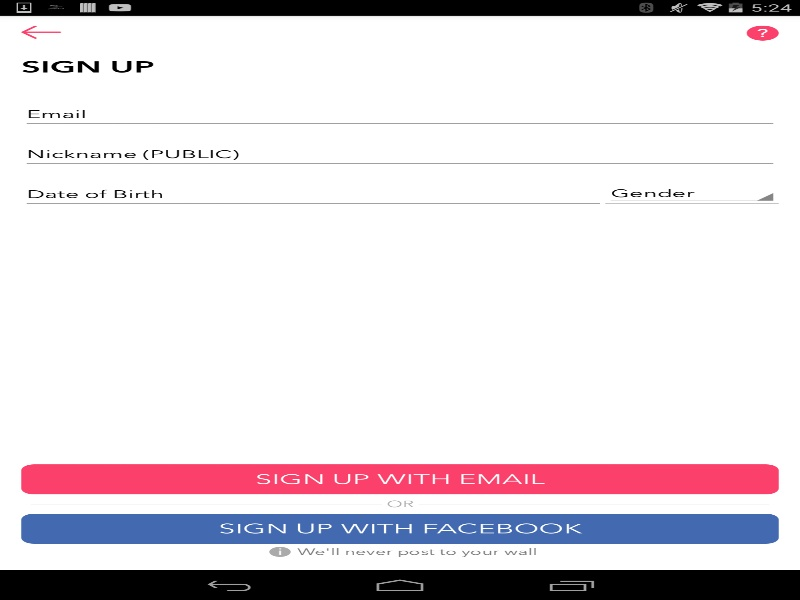Button: (21, 464, 778, 494), (21, 513, 778, 543)
Input: (21, 102, 778, 129), (21, 142, 778, 169), (21, 182, 605, 209)
